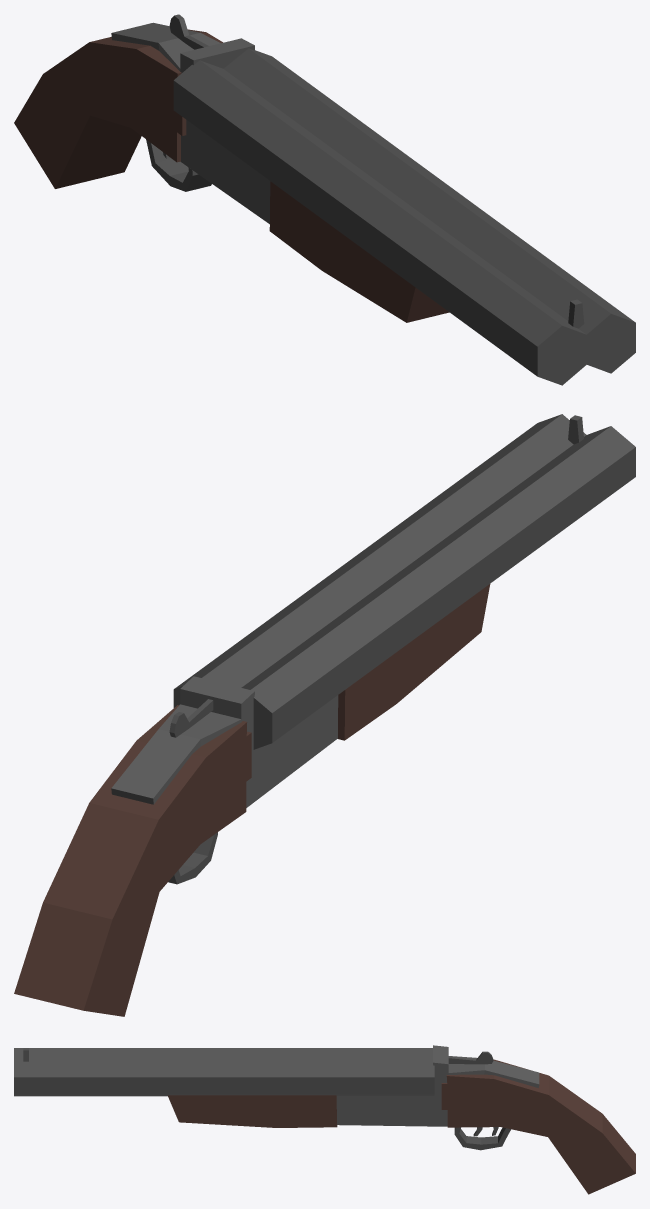
The model's file is Shotgun.fbx.
3 views of the same model, one above another, from view 1: azimuth 30°, elevation 25°; view 2: azimuth 150°, elevation 25°; view 3: azimuth 270°, elevation 25° (orthographic). The views are drawn at different scales.
Visible parts, largest first — view 1: ShotGun; view 2: ShotGun; view 3: ShotGun.
Part boxes in pixels (x1,y1,x2,y2): ShotGun: (14, 14, 635, 385); ShotGun: (14, 414, 635, 1016); ShotGun: (14, 1045, 635, 1194).
Size of the model in its own units: 145 by 330 by 1370.
